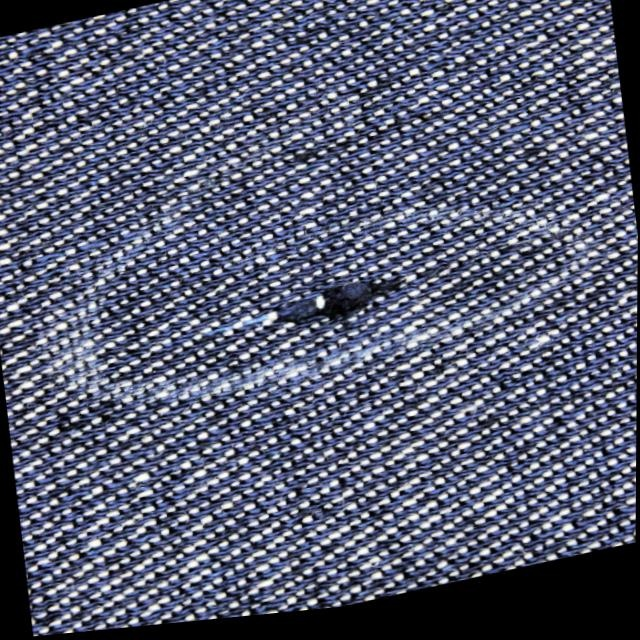Hole: (186, 237, 442, 376)
